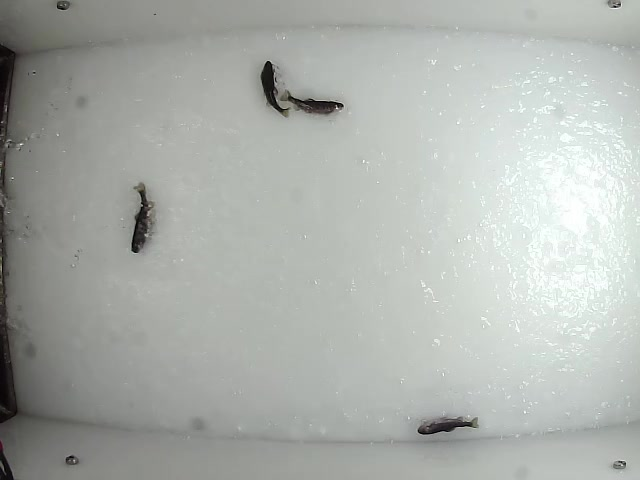fish: (256, 59, 292, 119), (277, 89, 346, 116), (129, 181, 152, 255), (414, 414, 481, 437)
